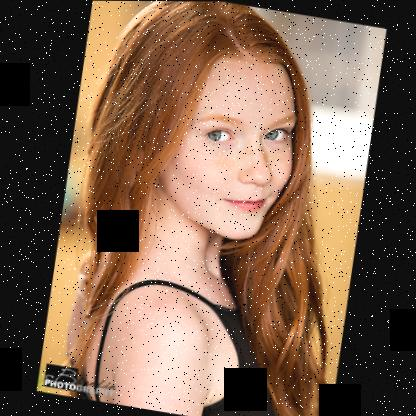Female: (145, 37, 308, 245)
